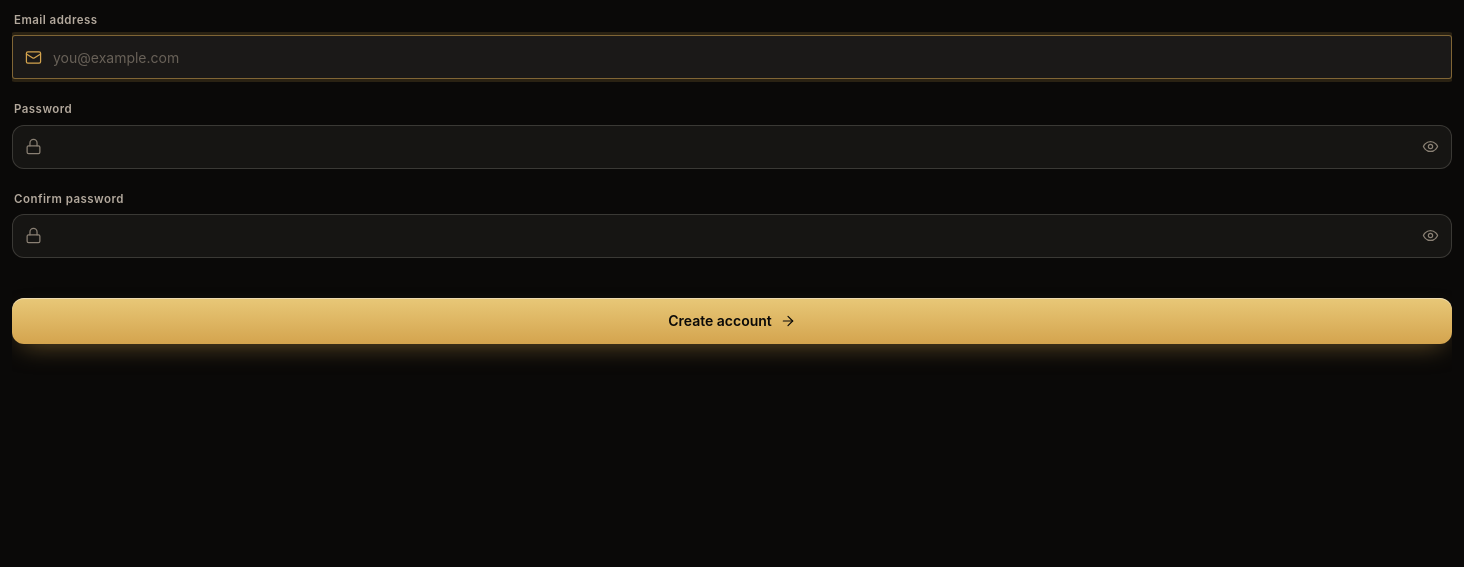
Test: SignUpForm › shows the requirements checklist once the password is touched
The image size is (1464, 567).
Type "abc" into the password field labelled "Password" at (732, 146), box left=12, top=124, right=1452, bottom=168
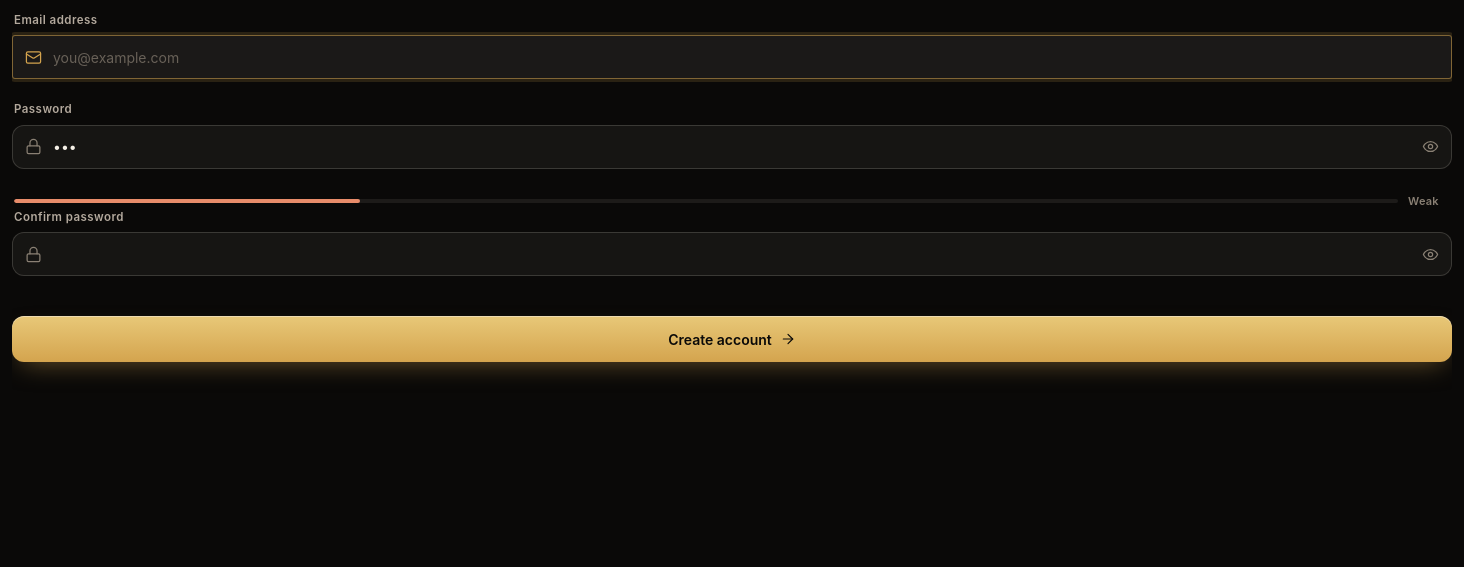
Leave the password field labelled "Password", box left=12, top=124, right=1452, bottom=168
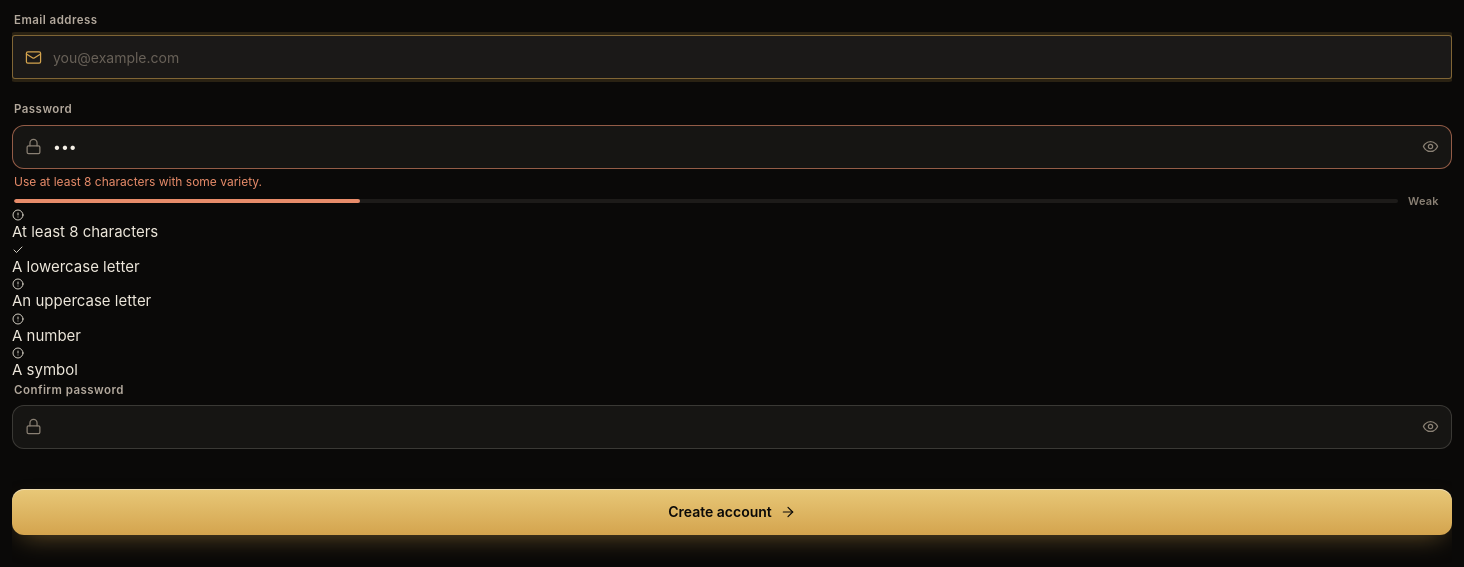
Expected: the list named "password requirements" is shown, left=12, top=209, right=158, bottom=379
